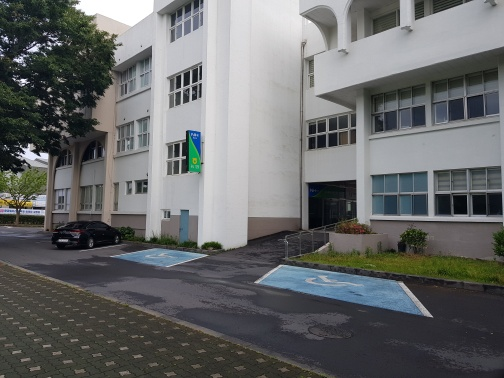Main Building of University: (42, 4, 504, 268), (243, 92, 385, 258), (177, 118, 205, 181)
